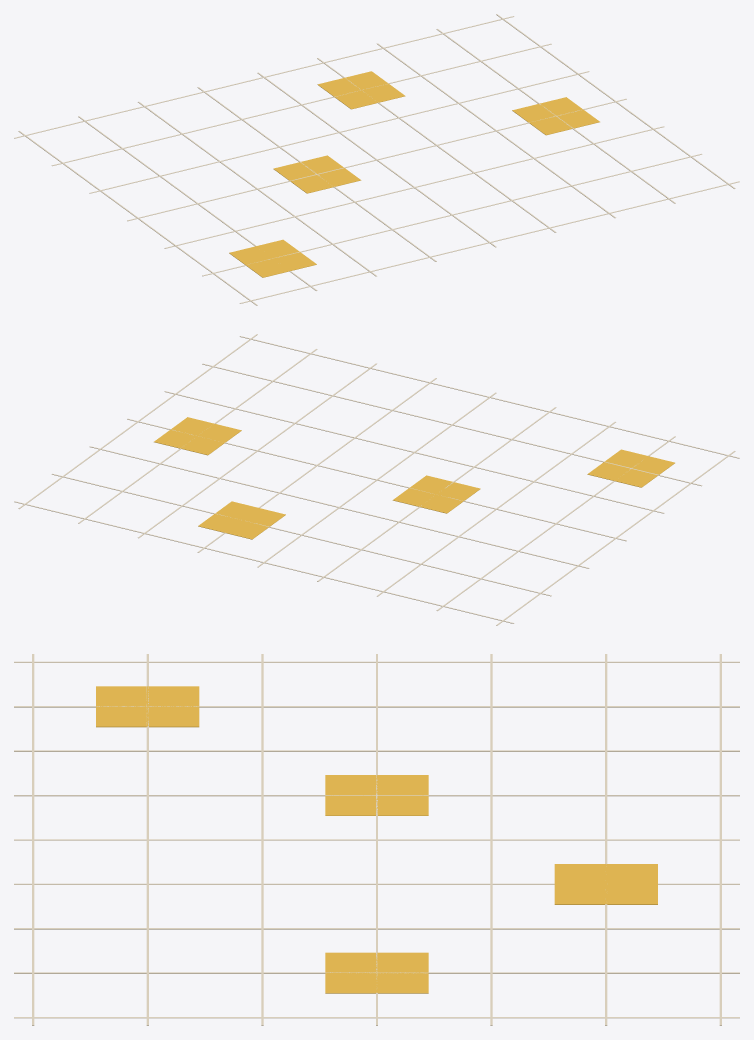
The picture shows the model from 3 angles, top to bottom: view 1: azimuth 30°, elevation 25°; view 2: azimuth 150°, elevation 25°; view 3: azimuth 270°, elevation 25°; orthographic projection. The views are drawn at different scales.
Parts seen in each view (by area): view 1: Geometric color tile.002, Geometric color tile.001, Geometric color tile.003, Geometric color tile, Grout Y.002, Grout Y, Grout Y.004, Grout Y.006, Grout Y.001, Grout Y.005, Grout Y.003, Grout X.004 (+7 smaller); view 2: Geometric color tile.001, Geometric color tile.002, Geometric color tile.003, Geometric color tile, Grout Y.002, Grout Y.004, Grout Y.006, Grout Y, Grout Y.001, Grout Y.005, Grout Y.003, Grout X.002 (+4 smaller); view 3: Geometric color tile, Geometric color tile.003, Geometric color tile.002, Geometric color tile.001, Grout X.002, Grout X, Grout X.004, Grout X.006, Grout X.008, Grout X.007, Grout X.003, Grout X.001 (+8 smaller).
Boxes of the visible parts, x1,y1,x2,y2 form: Geometric color tile.002: [317, 71, 405, 109]; Geometric color tile.001: [273, 155, 361, 193]; Geometric color tile.003: [512, 97, 599, 135]; Geometric color tile: [229, 239, 316, 277]; Grout Y.002: [164, 126, 664, 248]; Grout Y: [239, 181, 739, 303]; Grout Y.004: [89, 71, 589, 193]; Grout Y.006: [14, 16, 514, 138]; Grout Y.001: [202, 153, 702, 276]; Grout Y.005: [51, 43, 551, 166]; Grout Y.003: [127, 98, 626, 221]; Grout X.004: [257, 72, 496, 247]; Geometric color tile.001: [392, 475, 480, 513]; Geometric color tile.002: [198, 501, 285, 539]; Geometric color tile.003: [154, 417, 241, 455]; Geometric color tile: [587, 449, 674, 487]; Grout Y.002: [164, 391, 664, 513]; Grout Y.004: [89, 446, 589, 568]; Grout Y.006: [14, 501, 514, 623]; Grout Y: [239, 336, 739, 458]; Grout Y.001: [202, 363, 702, 486]; Grout Y.005: [51, 473, 551, 596]; Grout Y.003: [127, 418, 626, 541]; Grout X.002: [377, 421, 615, 596]; Geometric color tile: [96, 686, 199, 727]; Geometric color tile.003: [325, 952, 428, 993]; Geometric color tile.002: [554, 864, 657, 904]; Geometric color tile.001: [325, 775, 428, 815]; Grout X.002: [14, 750, 739, 751]; Grout X: [14, 661, 739, 662]; Grout X.004: [14, 839, 739, 840]; Grout X.006: [14, 928, 739, 929]; Grout X.008: [14, 1017, 739, 1018]; Grout X.007: [14, 972, 739, 973]; Grout X.003: [14, 795, 739, 796]; Grout X.001: [14, 706, 739, 707].
Bounding box in the file's own units: 4.6 × 0.003 × 3.8.
Materials: 1 (1 with a texture image).
